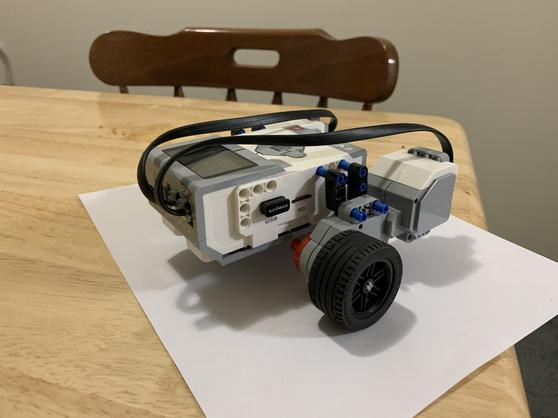robot: (134, 107, 462, 333)
